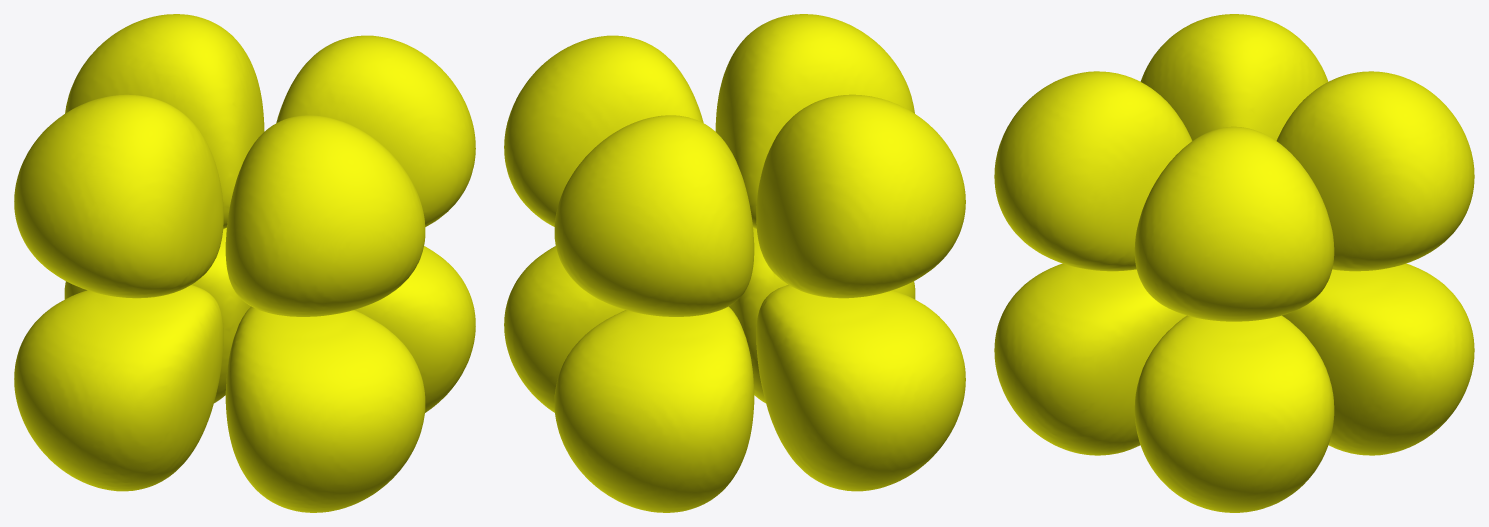
File: fz(x2-y2) orbital.dae
The picture shows the model from 3 angles, left to right: view 1: azimuth 30°, elevation 25°; view 2: azimuth 150°, elevation 25°; view 3: azimuth 270°, elevation 25°; orthographic projection. The views are drawn at different scales.
Parts seen in each view (by area): view 1: fz(x2-y2) - 2, fz(x2-y2) - 1; view 2: fz(x2-y2) - 2, fz(x2-y2) - 1; view 3: fz(x2-y2) - 1, fz(x2-y2) - 2.
Part boxes in pixels (bbox=[...]): fz(x2-y2) - 2: bbox=[14, 14, 475, 491]; fz(x2-y2) - 1: bbox=[14, 35, 475, 512]; fz(x2-y2) - 2: bbox=[504, 14, 965, 491]; fz(x2-y2) - 1: bbox=[504, 35, 965, 512]; fz(x2-y2) - 1: bbox=[994, 14, 1474, 455]; fz(x2-y2) - 2: bbox=[994, 71, 1474, 512].
Bounding box in the file's own units: 61.24 × 61.24 × 51.92.
